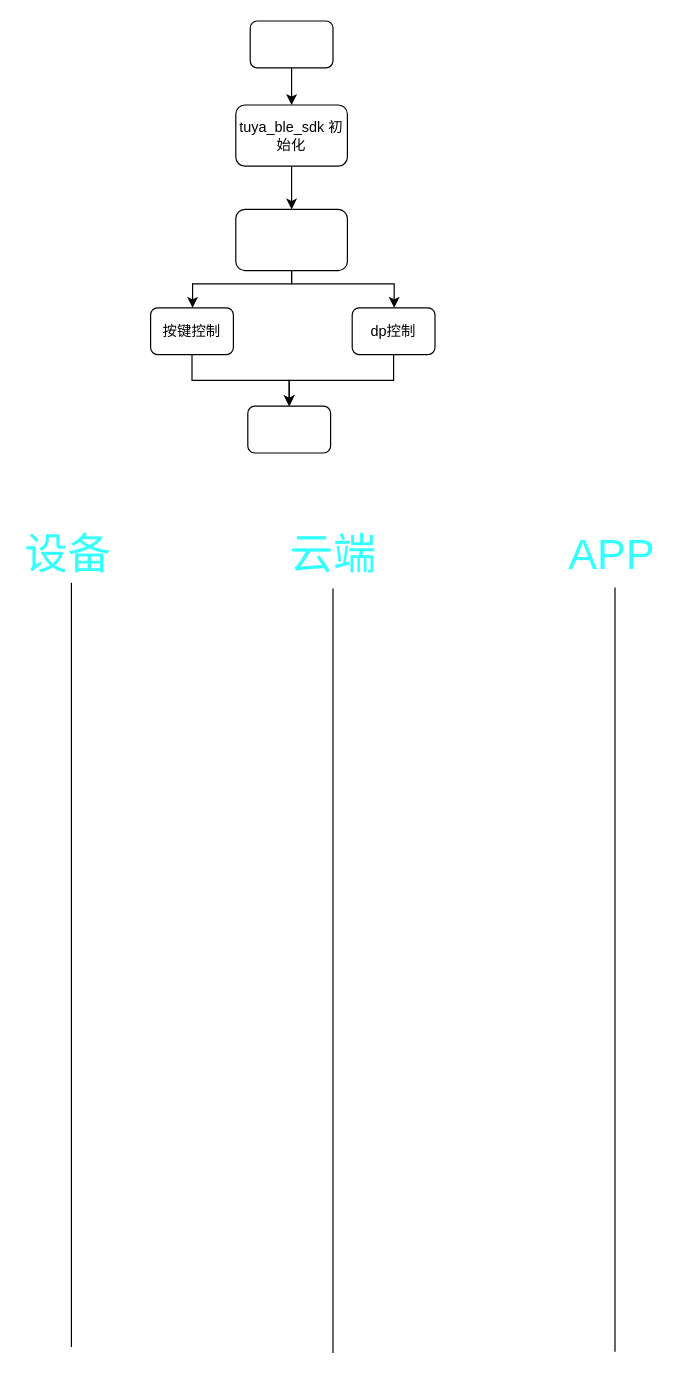
This 679x1375 diagram has some shape labels left out. Here are the shapes that lost their labels. From the top down, the box of each, then its label:
(249, 20, 333, 68): 上电
(235, 208, 347, 271): 硬件外设初始化
(247, 405, 331, 453): 结束
